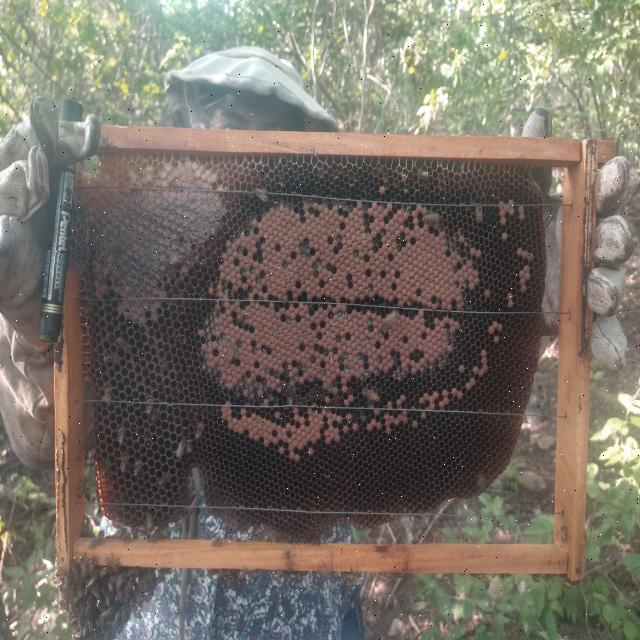cria: (190, 189, 538, 464)
marco: (73, 144, 577, 545)
